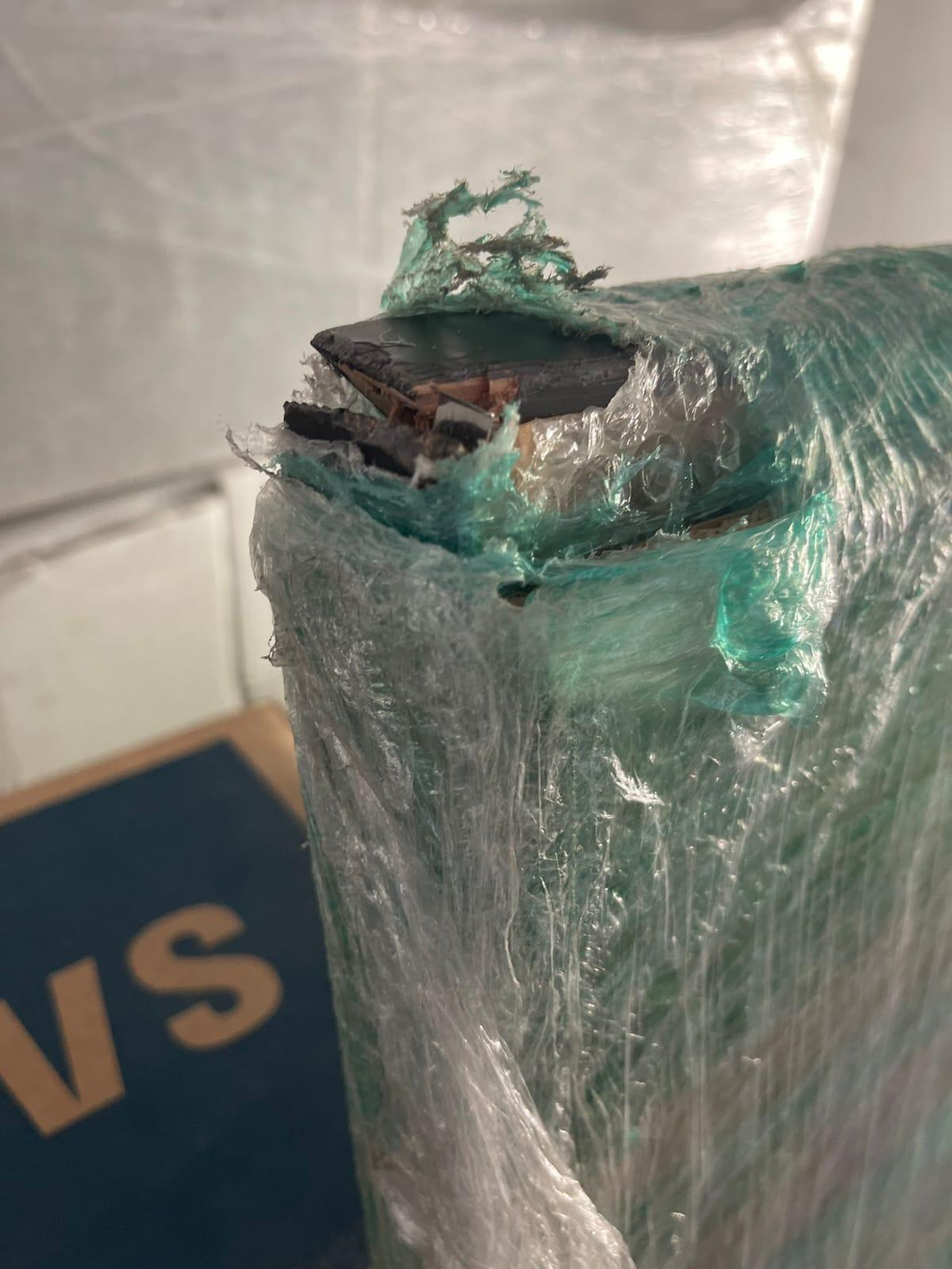damaged package: (270, 189, 793, 583)
undamaged: (209, 151, 950, 1267)
